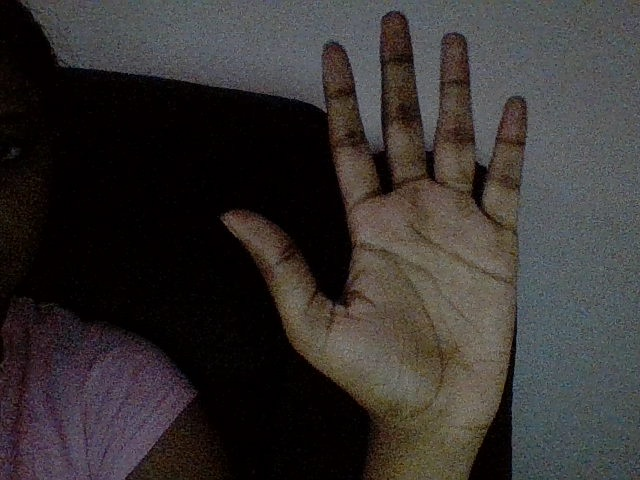Hello: (180, 5, 637, 464)
